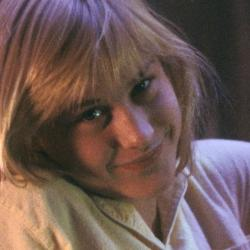face: (1, 2, 226, 209)
